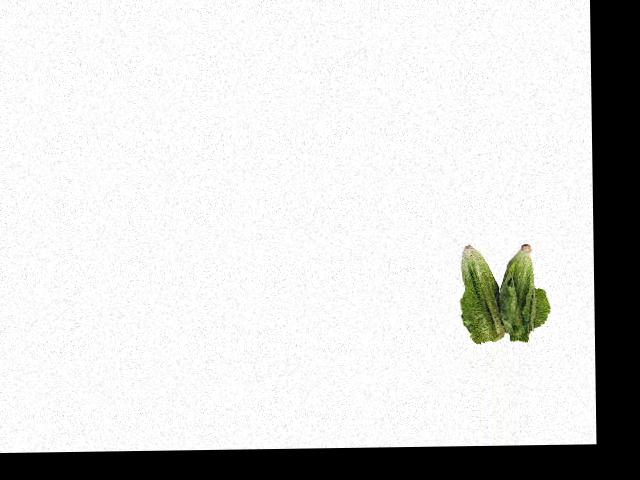lettuce: (454, 242, 540, 344)
